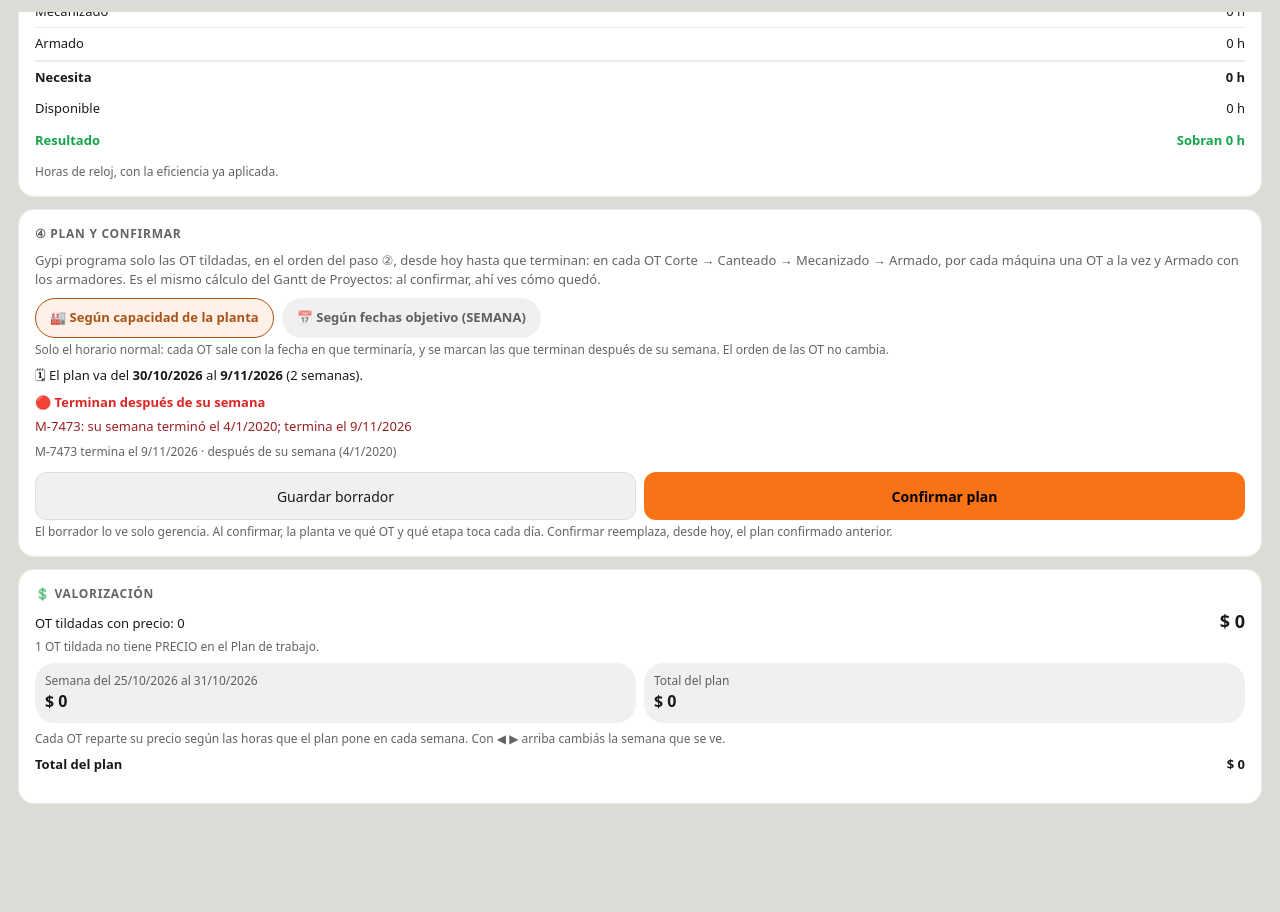
it: 📊 Carga — el plan se guarda entero, desde hoy hasta el último día
The image size is (1280, 912).
Click the button "Guardar borrador": (336, 496) [35, 472, 636, 520]
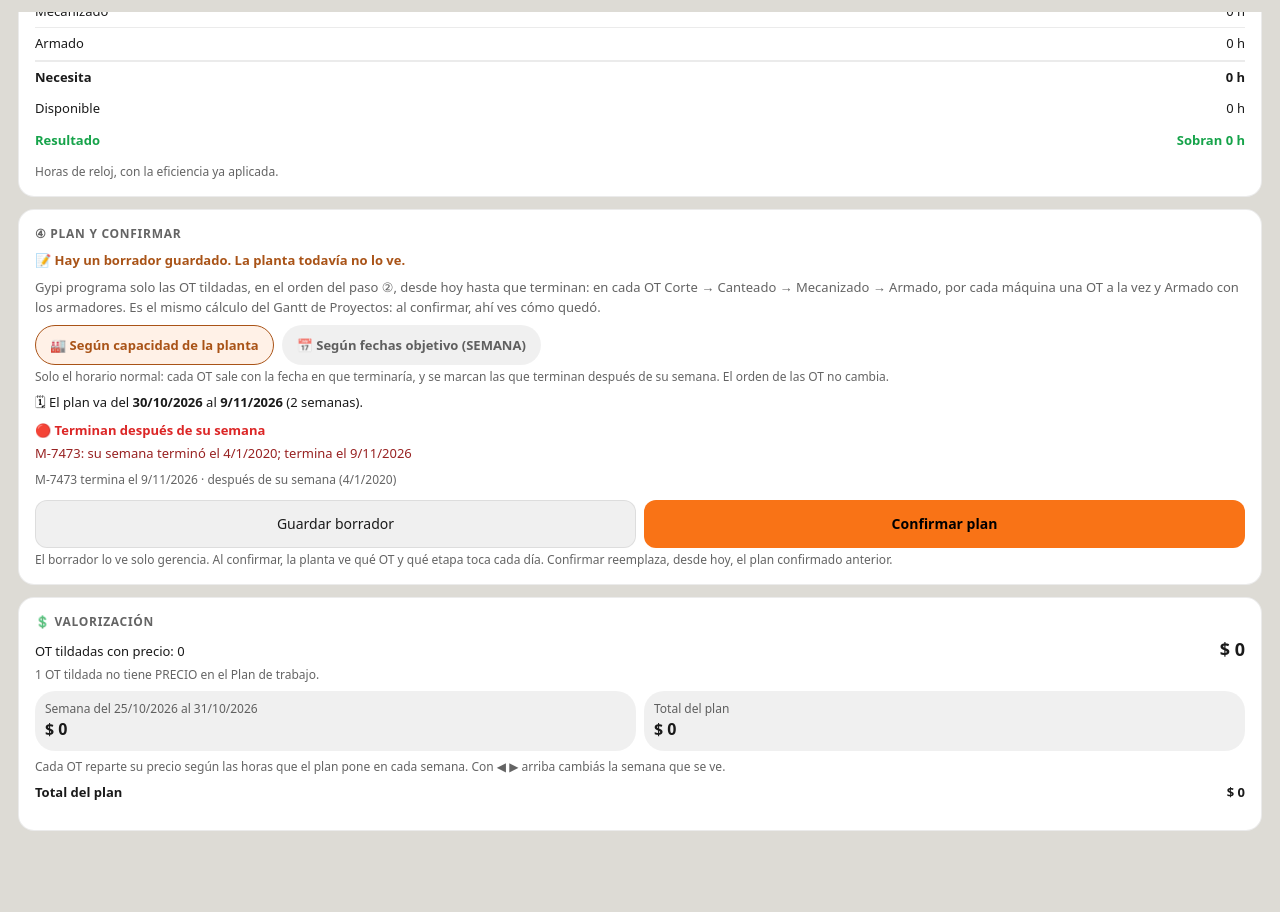
Expected: the text "📝 Hay un borrador guardado. La planta todavía no lo ve." is shown, [35, 251, 405, 269]
